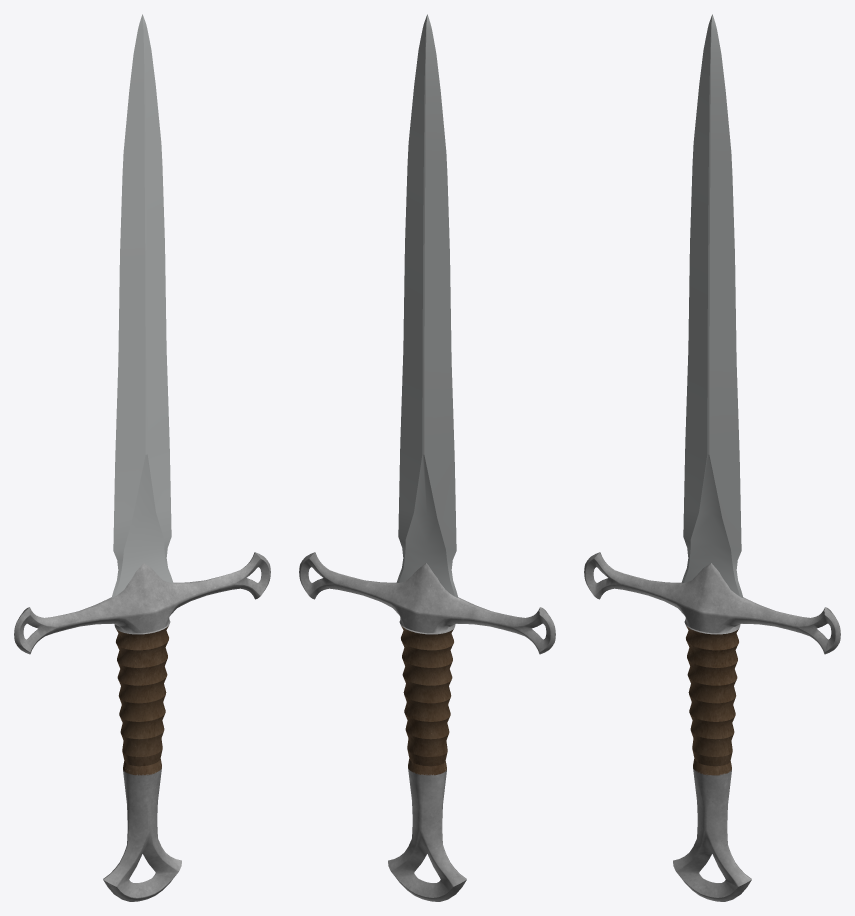
The model's file is dagger.gltf.
The picture shows the model from 3 angles, left to right: view 1: azimuth 30°, elevation 25°; view 2: azimuth 150°, elevation 25°; view 3: azimuth 330°, elevation 25°; orthographic projection.
Parts seen in each view (by area): view 1: Cylinder.002; view 2: Cylinder.002; view 3: Cylinder.002.
Boxes of the visible parts, <box> form: Cylinder.002: <box>14,14,270,901</box>; Cylinder.002: <box>299,14,555,901</box>; Cylinder.002: <box>584,14,840,901</box>.
Size of the model in its own units: 0.1536 by 0.507 by 0.025.
1 material, 1 textured.
